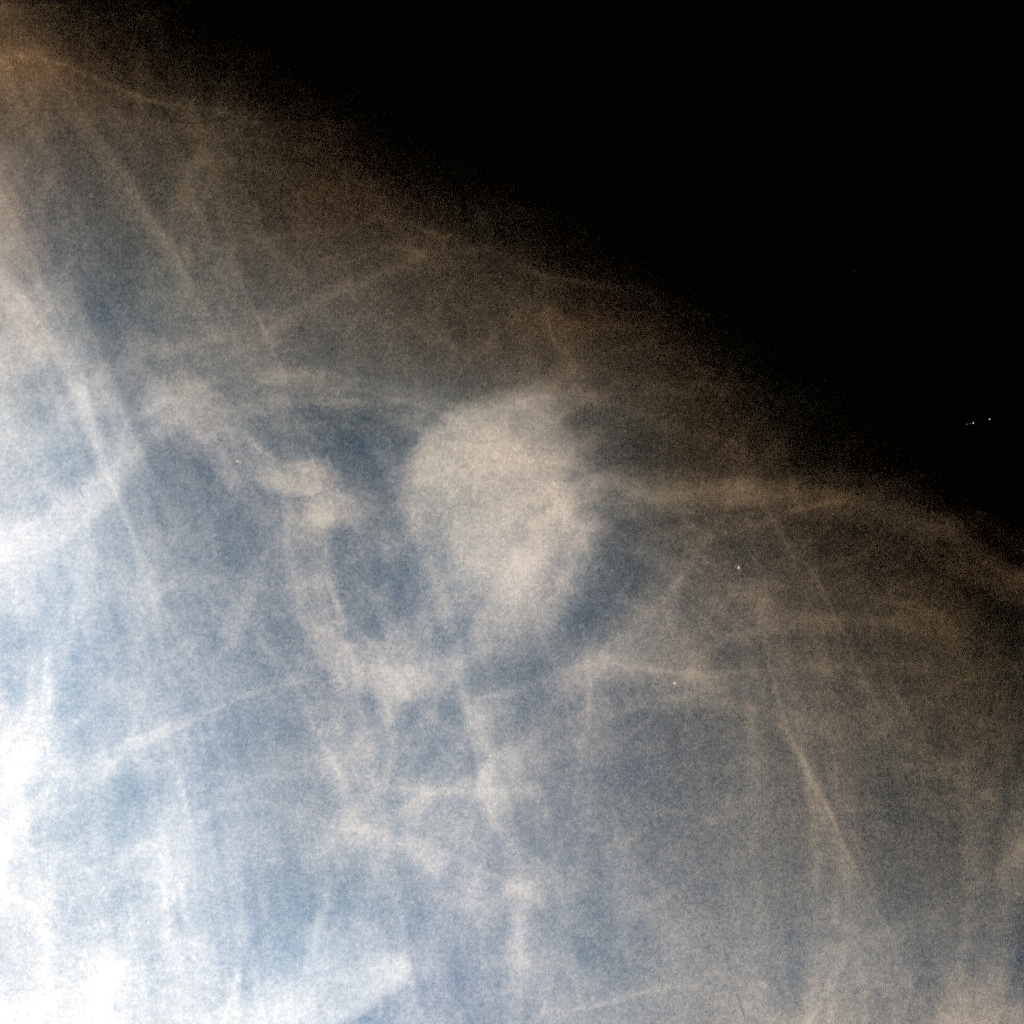tumor: (397, 385, 627, 639)
